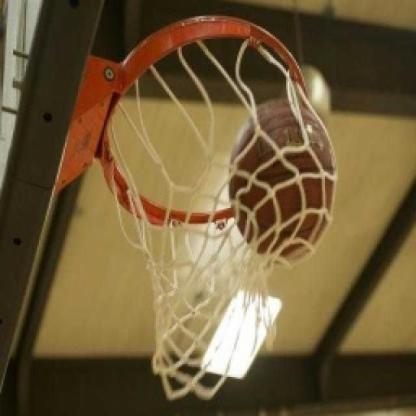basketball: (221, 92, 344, 268)
